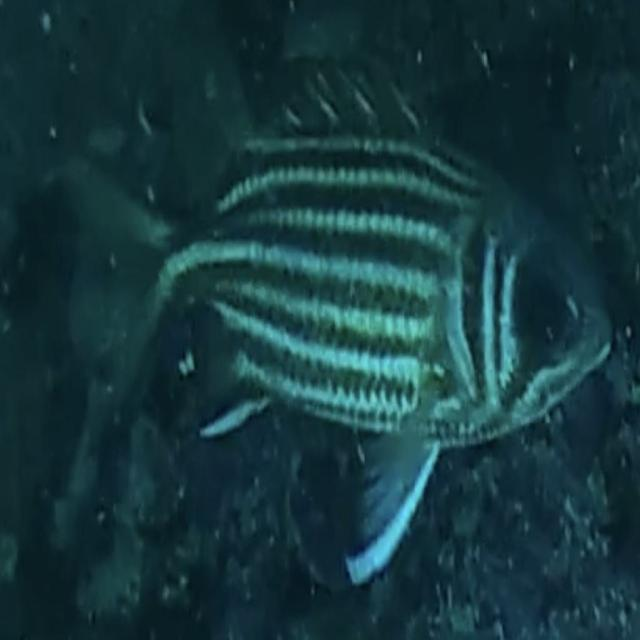Asker Baligi: (54, 48, 640, 590)
